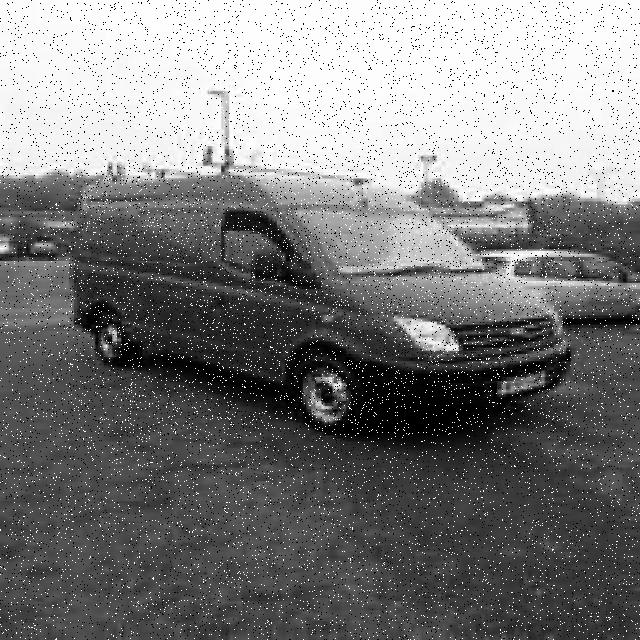Van: (69, 167, 572, 436)
